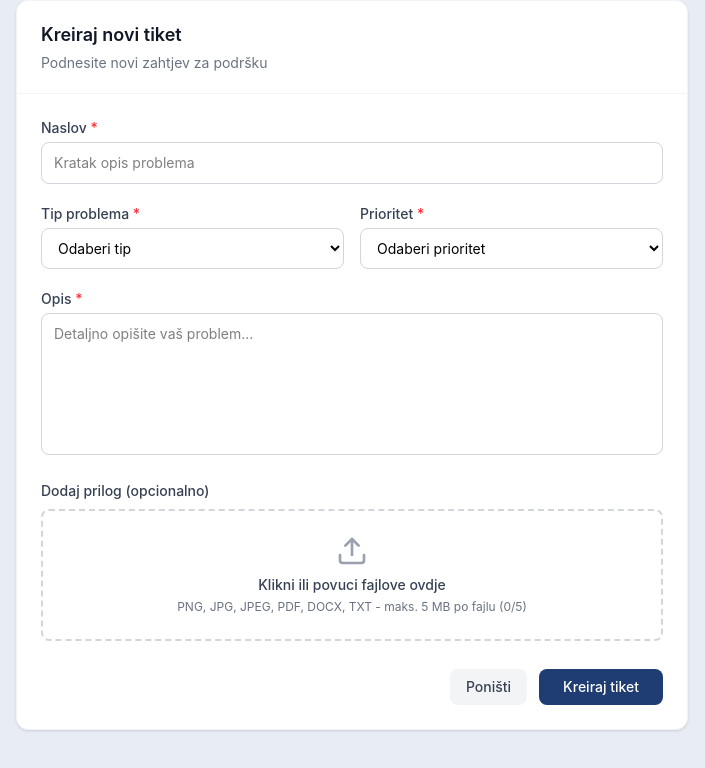
Test: CreateTicket page › shows validation error when description is empty
Type "Internet problem" into the field labelled "Naslov *". click: (352,163)
box: x1=41 y1=142 x2=663 y2=184
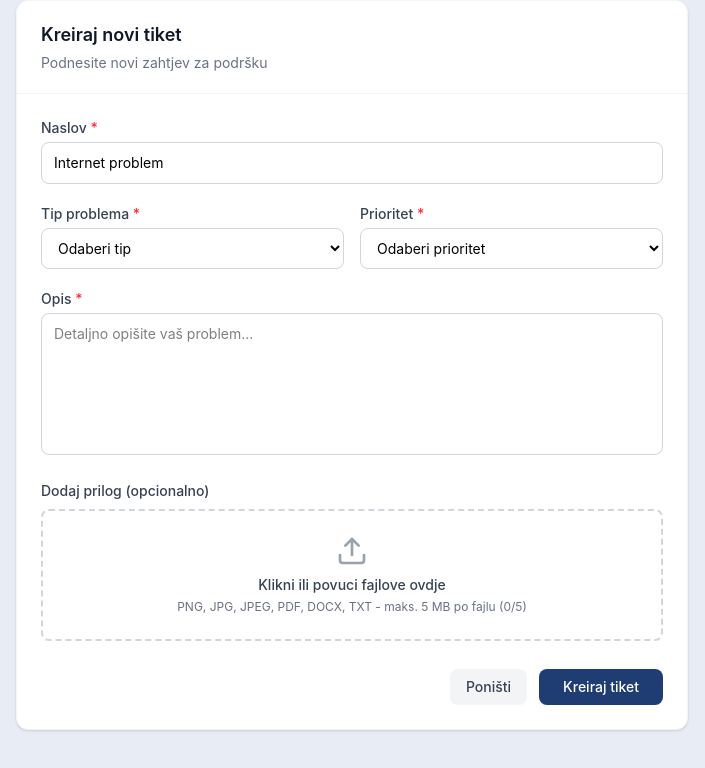
Select "Internet" in the dropdown labelled "Tip problema *". click: (192,248)
box: x1=41 y1=228 x2=344 y2=269
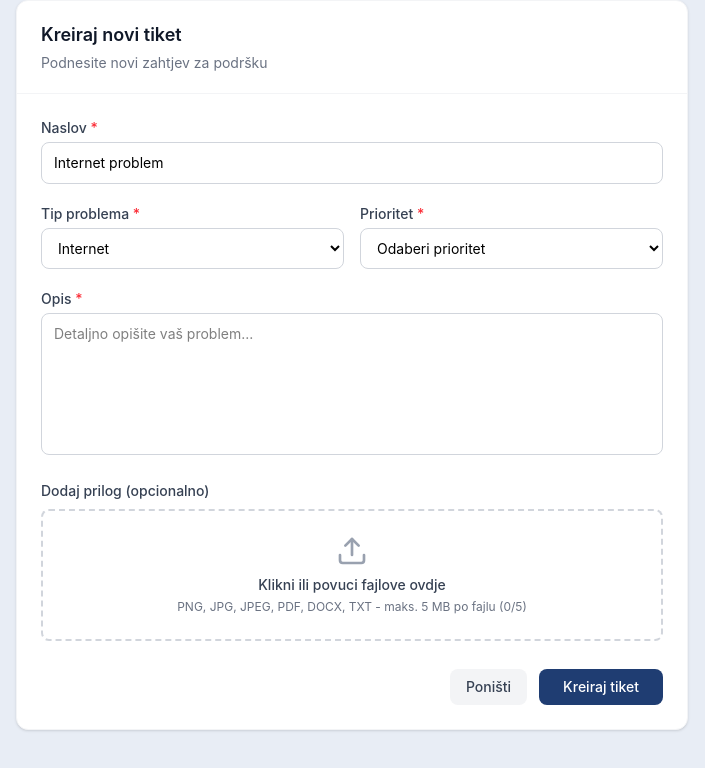
Select "Visok" in the dropdown labelled "Prioritet *". click: (512,248)
box: x1=360 y1=228 x2=663 y2=269
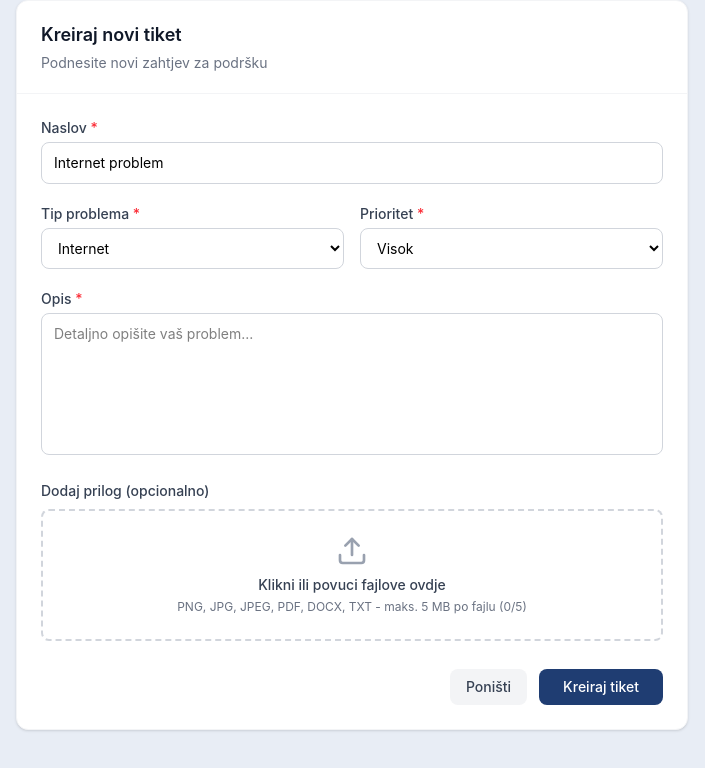
Submit the form named "kreiraj tiket"
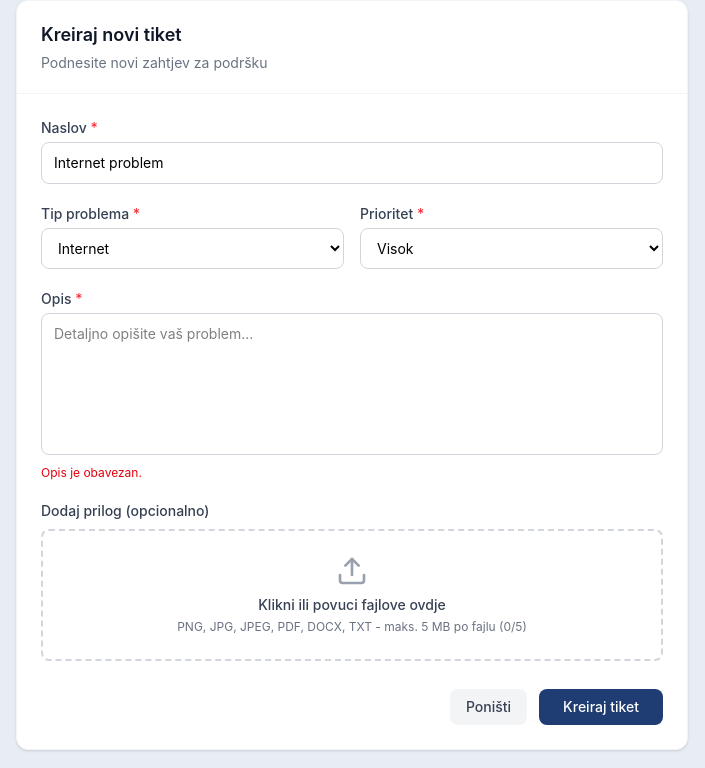
Expected: the text "Opis je obavezan." is shown, x1=41 y1=465 x2=142 y2=480
